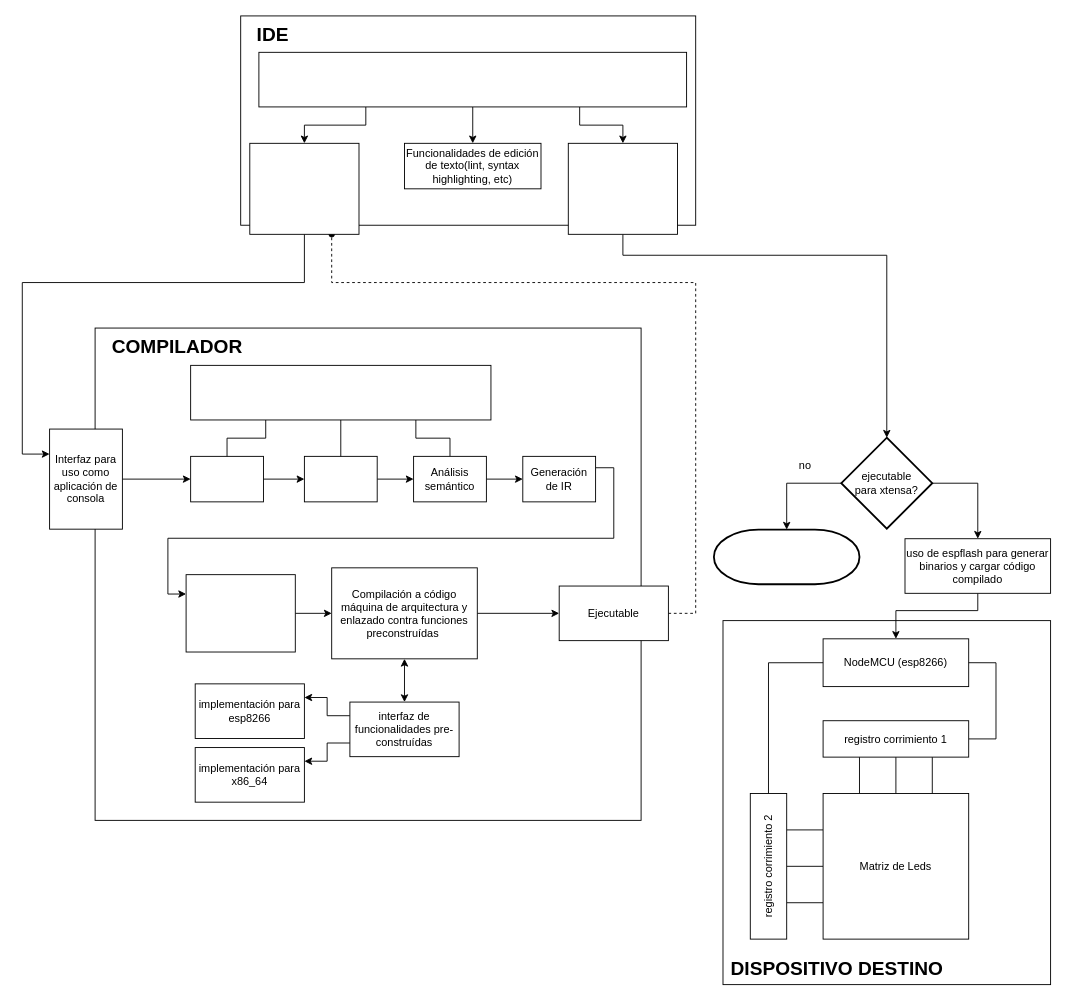
Image size: 1067x1001. Some labels were removed from this diagram. The centre of each missing label's shape, as x and y in pixels:
Funcionalidades para ejecutar código producto: the point at 622,188
Funcionalidades para obtener código producto: the point at 304,188
Generación de instrucciones en ensamblador para arquitectura destino: the point at 240,613
Interfaz gráfica: the point at 472,79
Lexer: the point at 226,478
Parser: the point at 340,478
Simulación en consola: the point at 786,556
Utilidades para compilación: the point at 340,392
